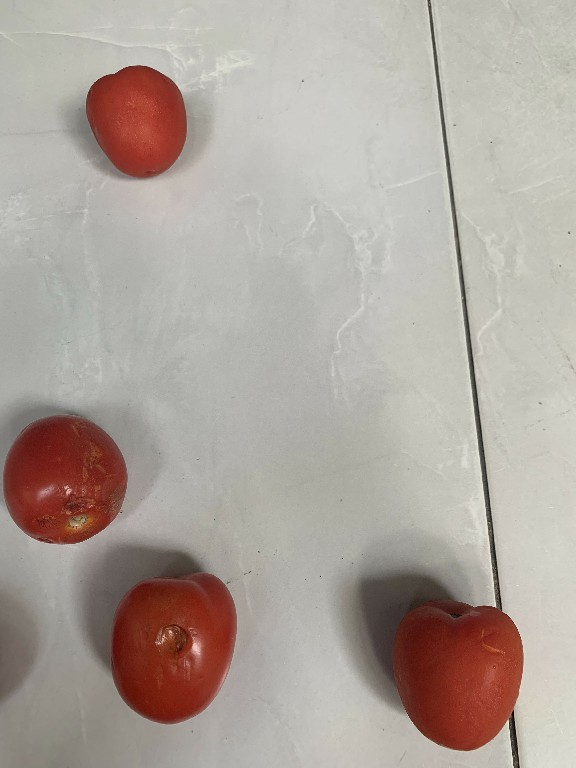NG: (110, 563, 241, 745), (0, 396, 129, 558)
OK: (387, 586, 526, 760), (77, 52, 215, 196)
